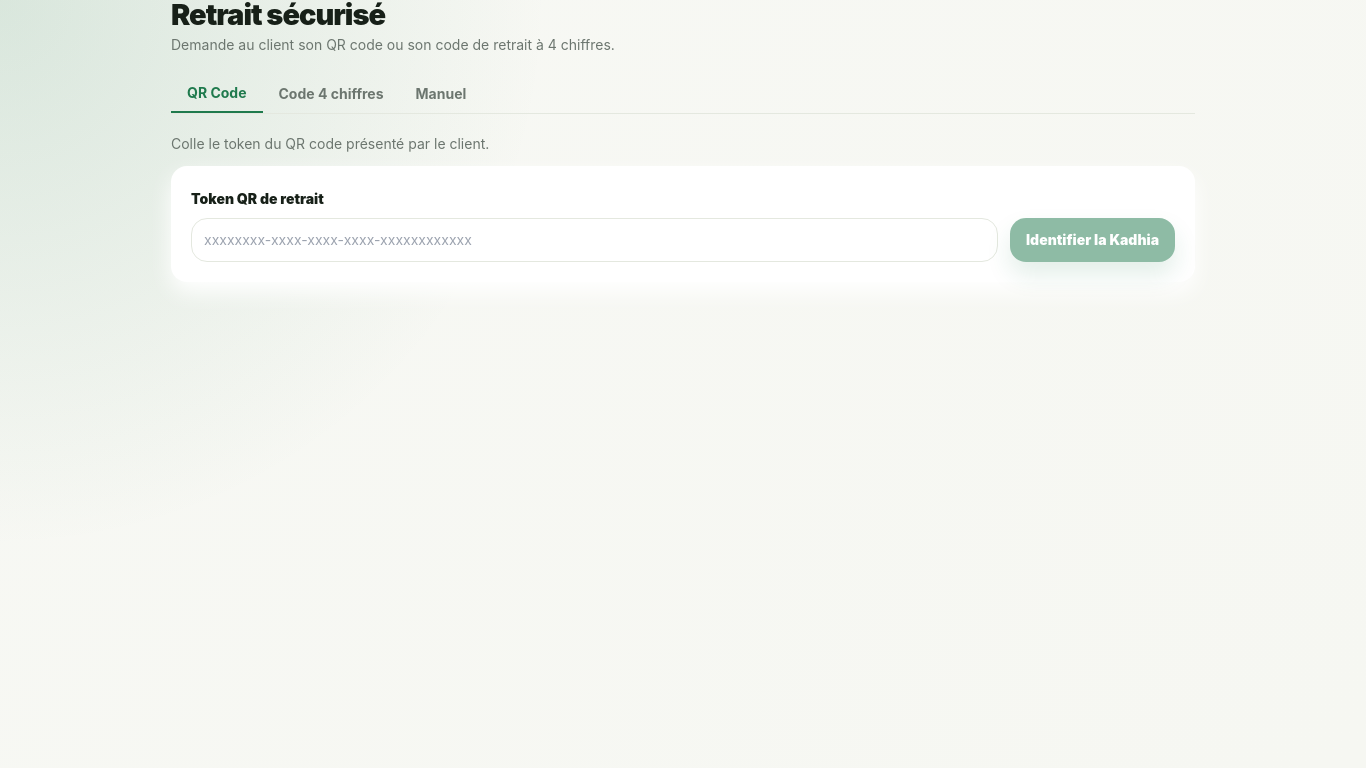
MerchantPickupPage › scans a token and displays the pickup session
The width and height of the screenshot is (1366, 768).
Step 1. Type "11111111-1111-4111-8111-111111111111" into the field labelled "Token QR de retrait" → (594, 240), box [191,218,998,262]
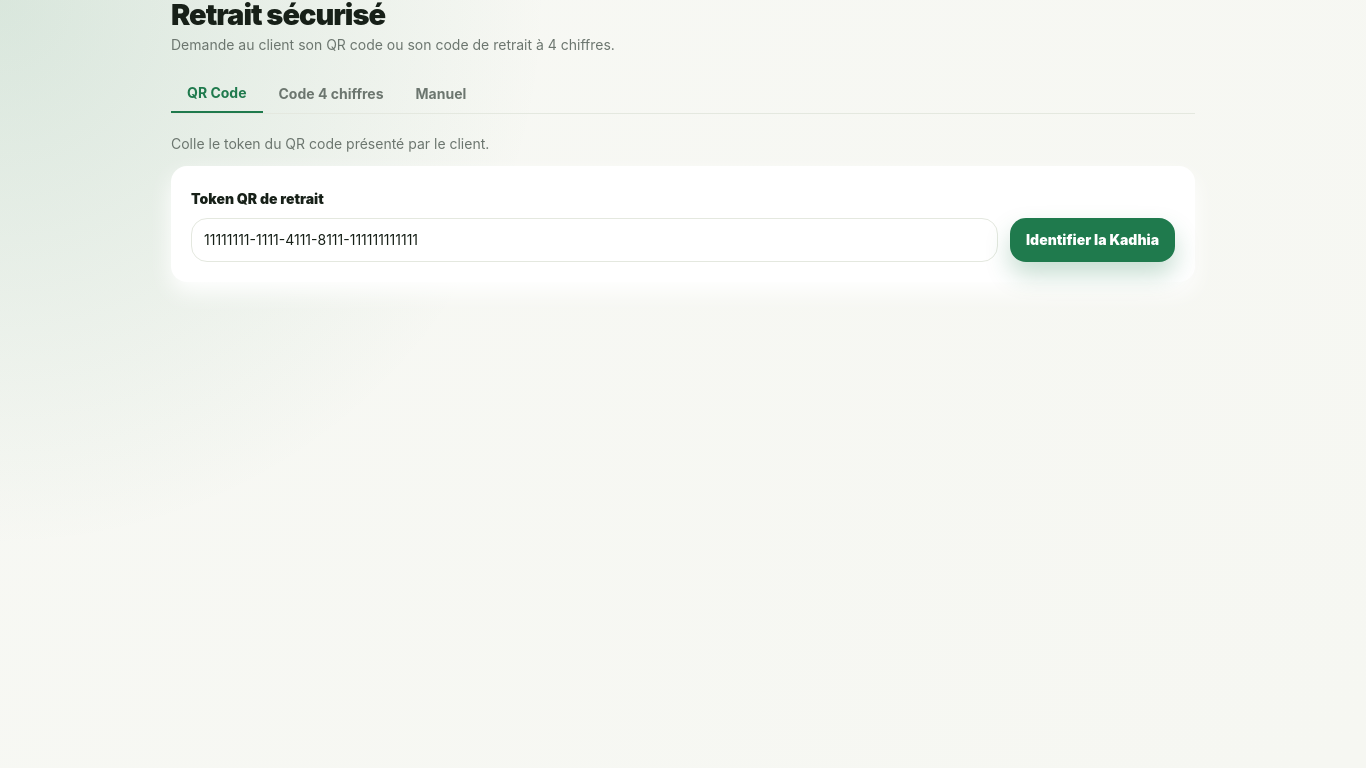
Step 2. Click the button "Identifier la Kadhia" → (1092, 240), box [1010,218,1175,262]
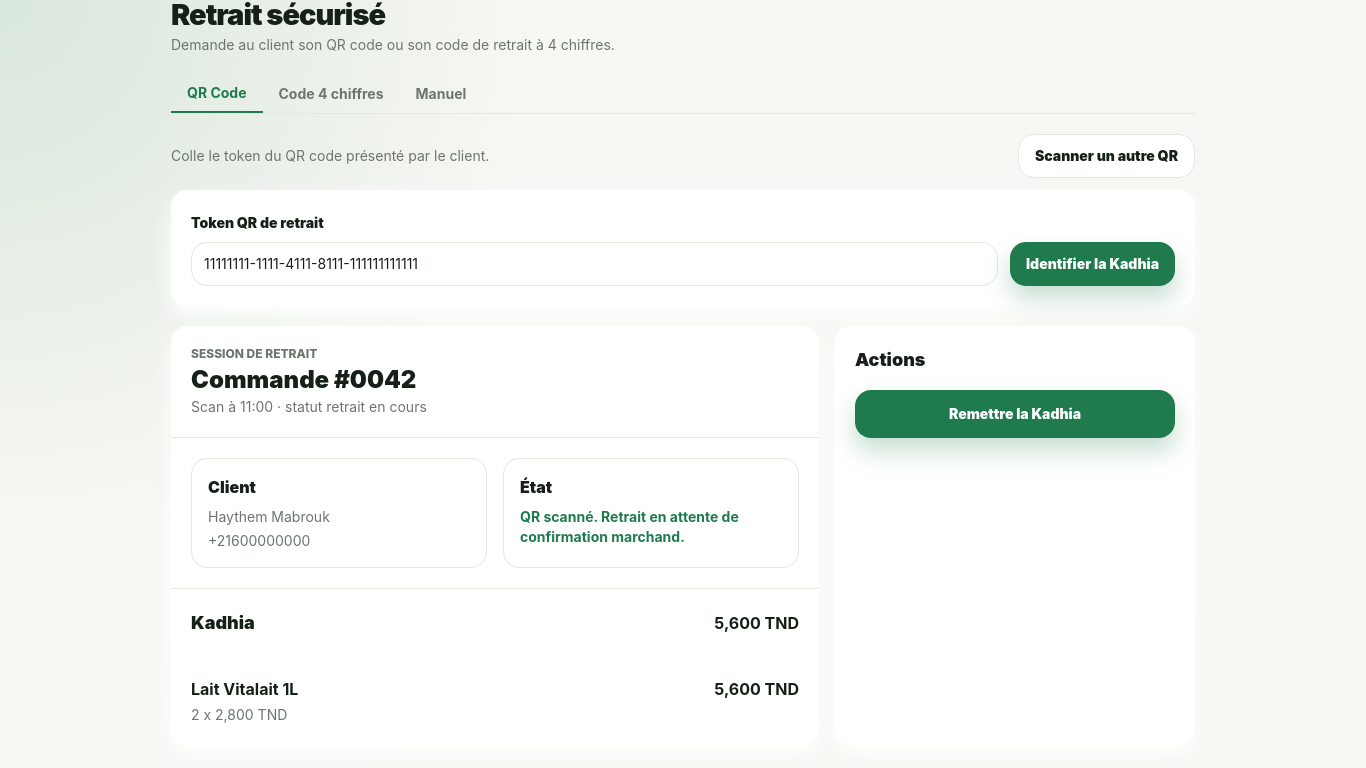
Now the heading "Commande #0042" is shown, box [191,365,416,394]
Now the text "Haythem Mabrouk" is shown, box [208,508,330,525]
Now the text "Lait Vitalait 1L" is shown, box [191,679,298,699]
